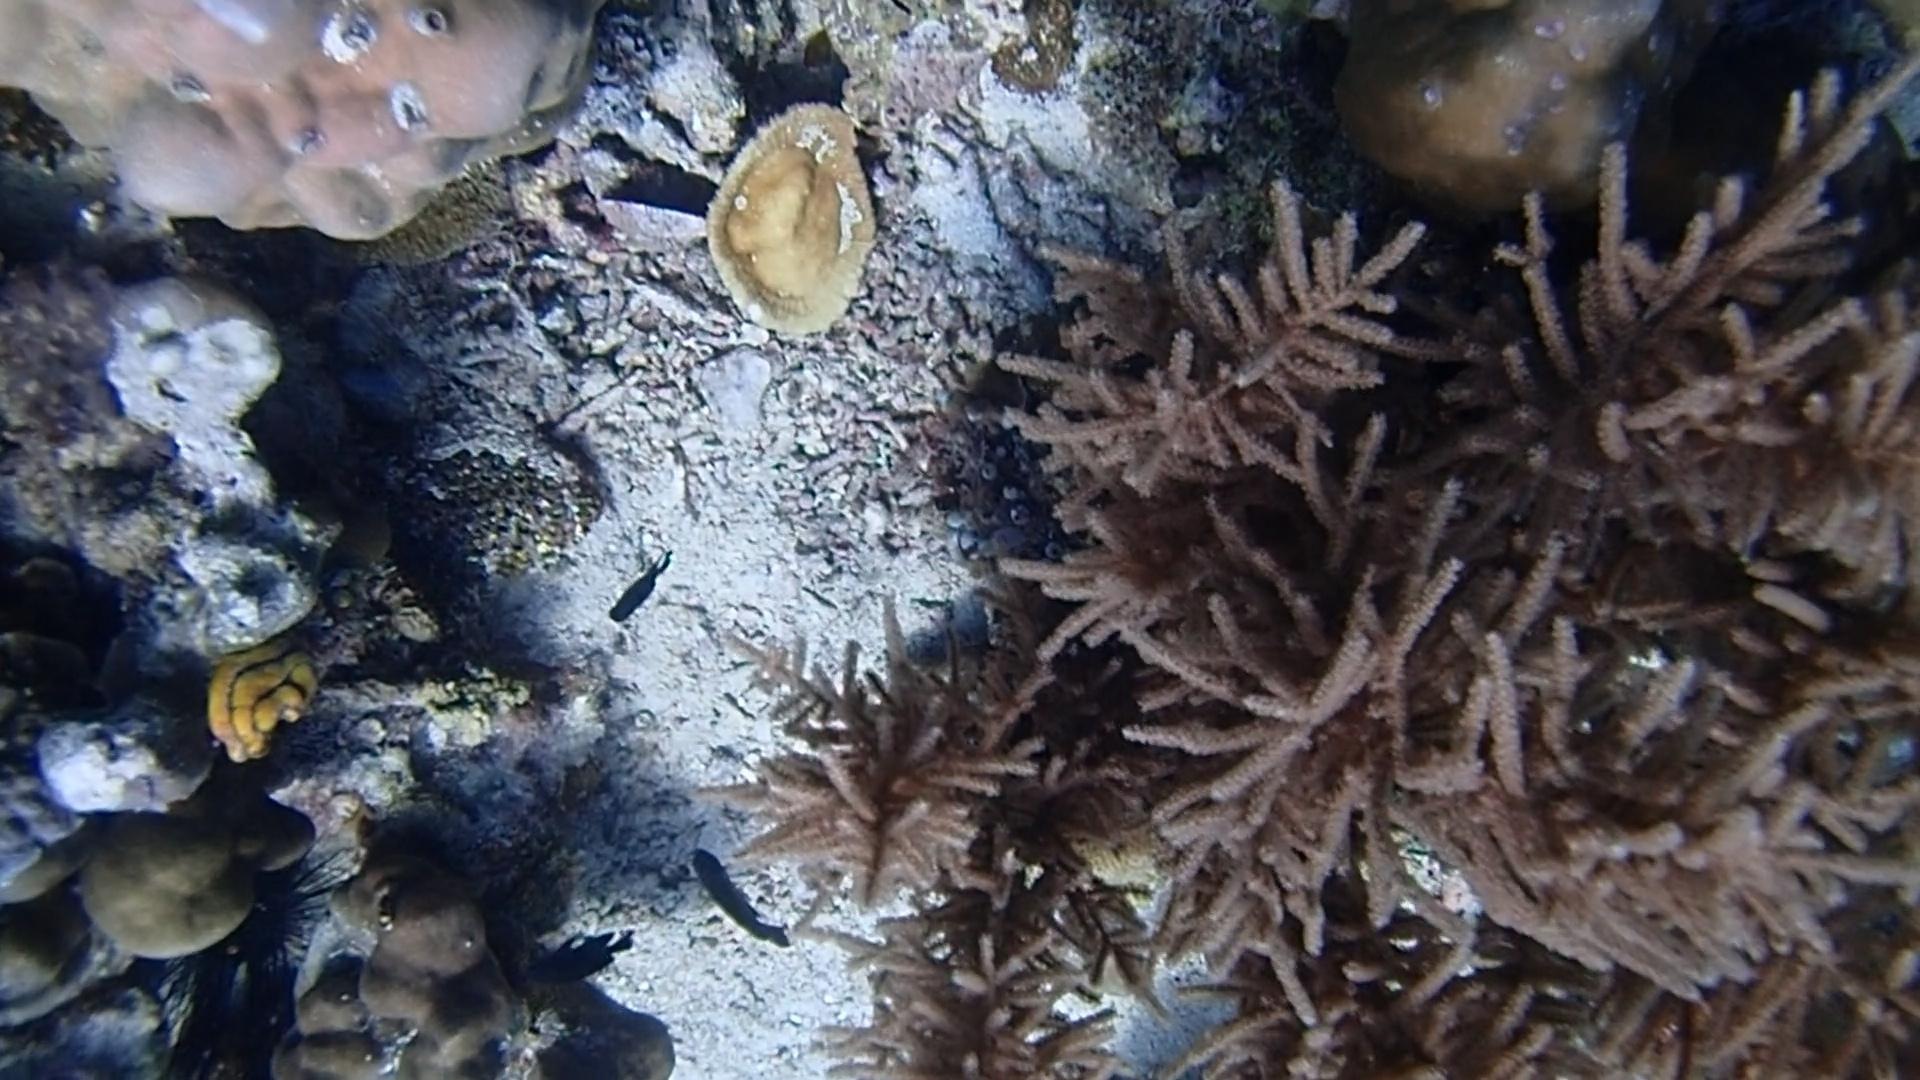Dark Fish: (674, 839, 798, 959), (521, 916, 641, 993), (599, 542, 678, 633)
